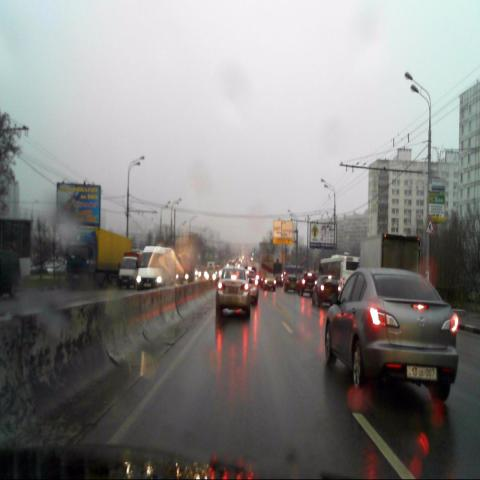1_25: (425, 220, 435, 236)
